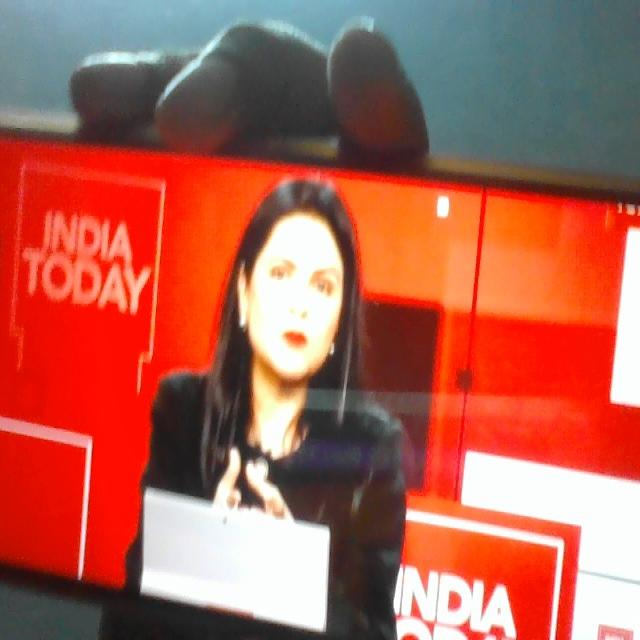fake: (223, 156, 361, 416)
